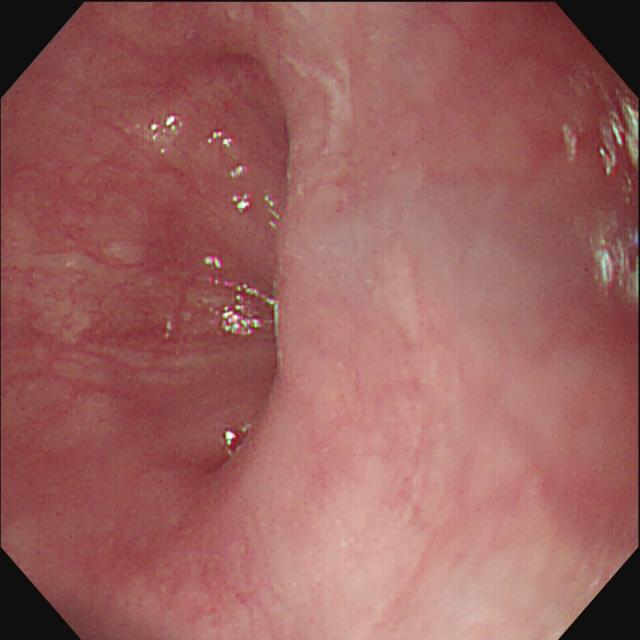A: (130, 209, 198, 313)
J: (593, 223, 640, 306), (601, 98, 640, 178)
U: (221, 282, 281, 337), (151, 114, 179, 141), (233, 194, 253, 214), (204, 256, 223, 268), (225, 431, 236, 449)
